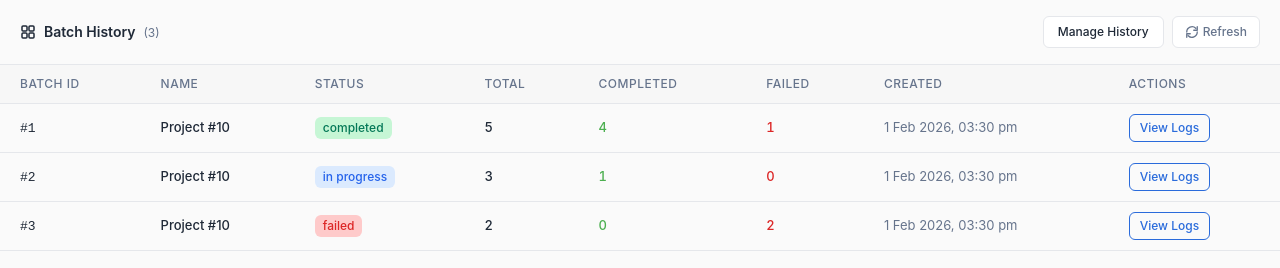
BatchHistoryTable › enables "Delete Selected" when at least one batch is selected
Expected: the text "#1" is shown, [20,121,36,136]
Click the button "Manage History" at (1103, 32), box [1043,16,1164,48]
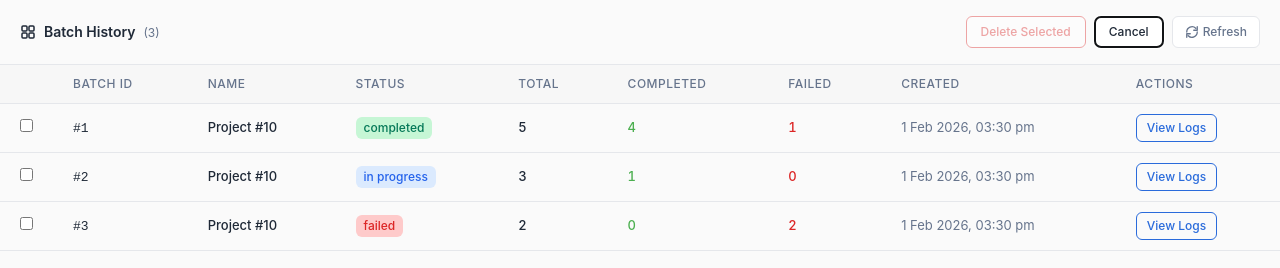
Click the checkbox named "Select batch 1" at (26, 126), box [20,119,33,132]
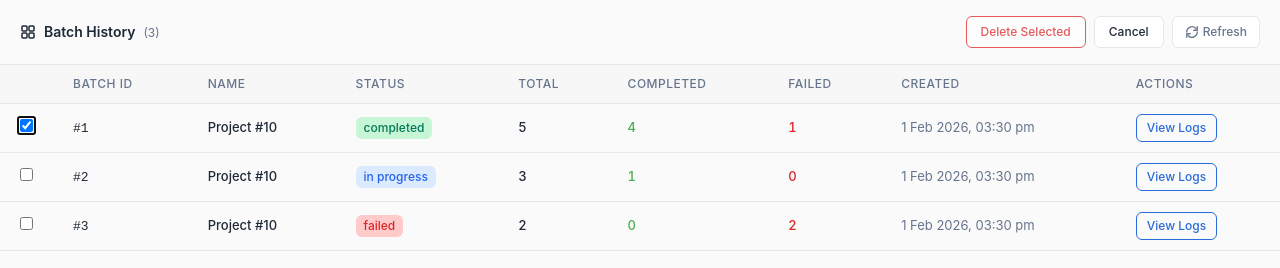
Now the button "Delete Selected" is enabled, box [966,16,1086,48]
